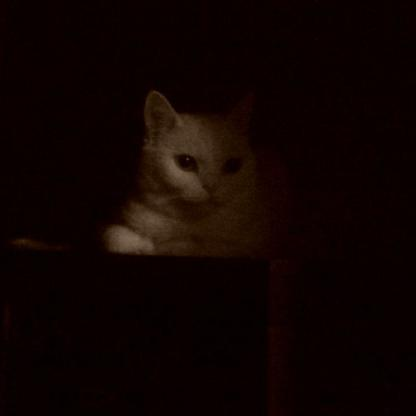Cat: (104, 84, 274, 268)
